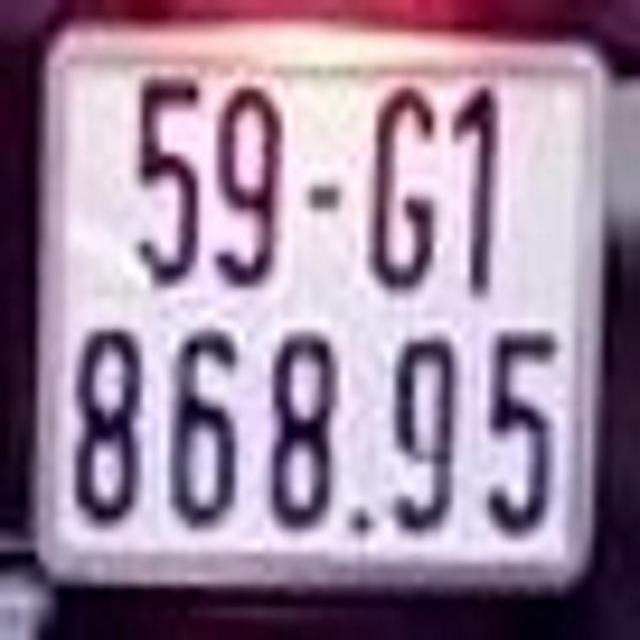1: (449, 69, 510, 296)
5: (487, 315, 561, 543), (131, 68, 202, 292)
6: (166, 317, 238, 530)
8: (269, 321, 335, 536), (75, 319, 141, 523)
9: (208, 71, 285, 291), (387, 324, 461, 542)
G: (370, 80, 440, 291)
